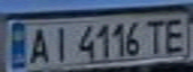1: (93, 20, 112, 58), (109, 19, 127, 57)
4: (75, 21, 96, 61)
6: (124, 18, 145, 56)
A: (24, 25, 54, 65)
E: (160, 13, 190, 55)
I: (48, 24, 72, 62)
T: (142, 16, 169, 56)
